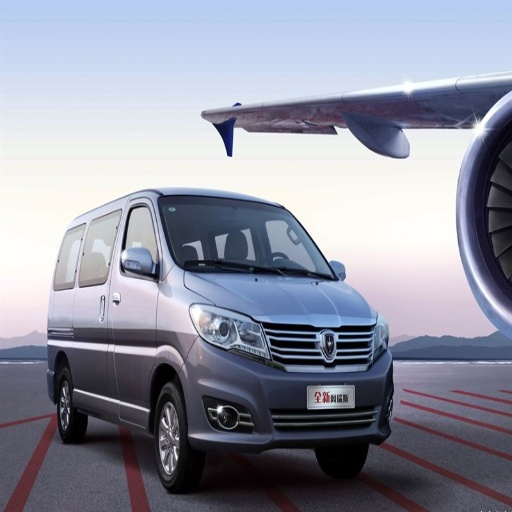front_bumper: (182, 322, 393, 451)
front_right_door: (107, 198, 160, 405)
front_right_light: (190, 302, 266, 358)
hood: (186, 272, 378, 327)
